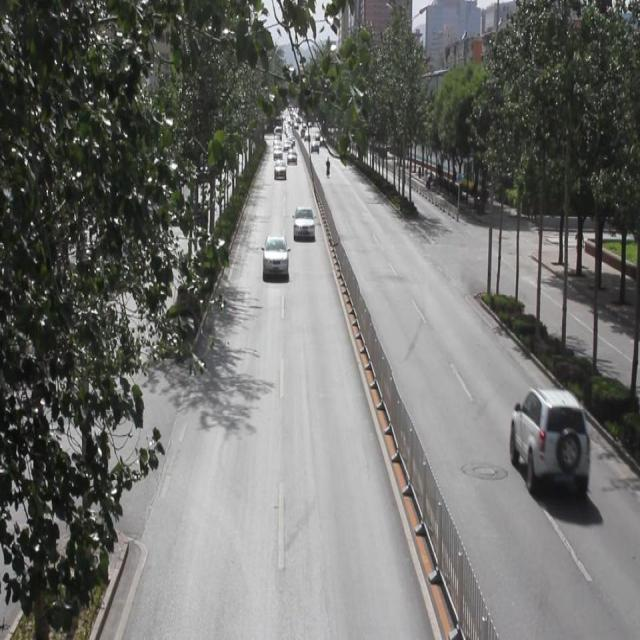car: (511, 383, 587, 495), (263, 233, 289, 279), (292, 203, 315, 239), (273, 158, 286, 181)
